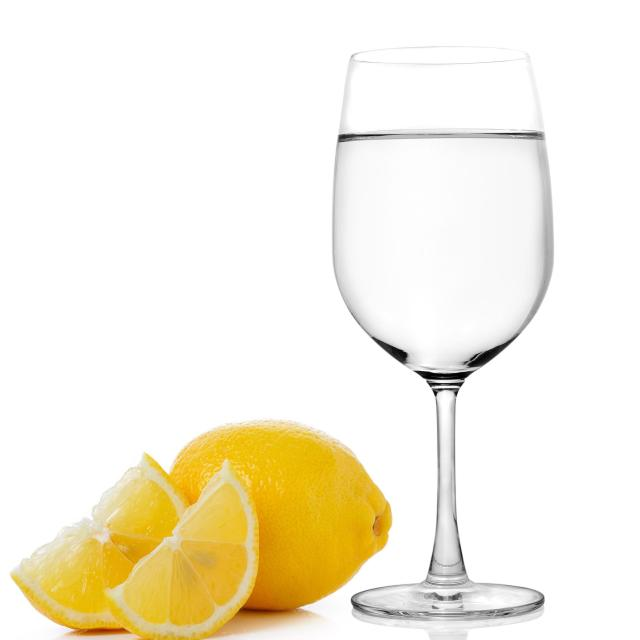lemon: (2, 444, 267, 640)
